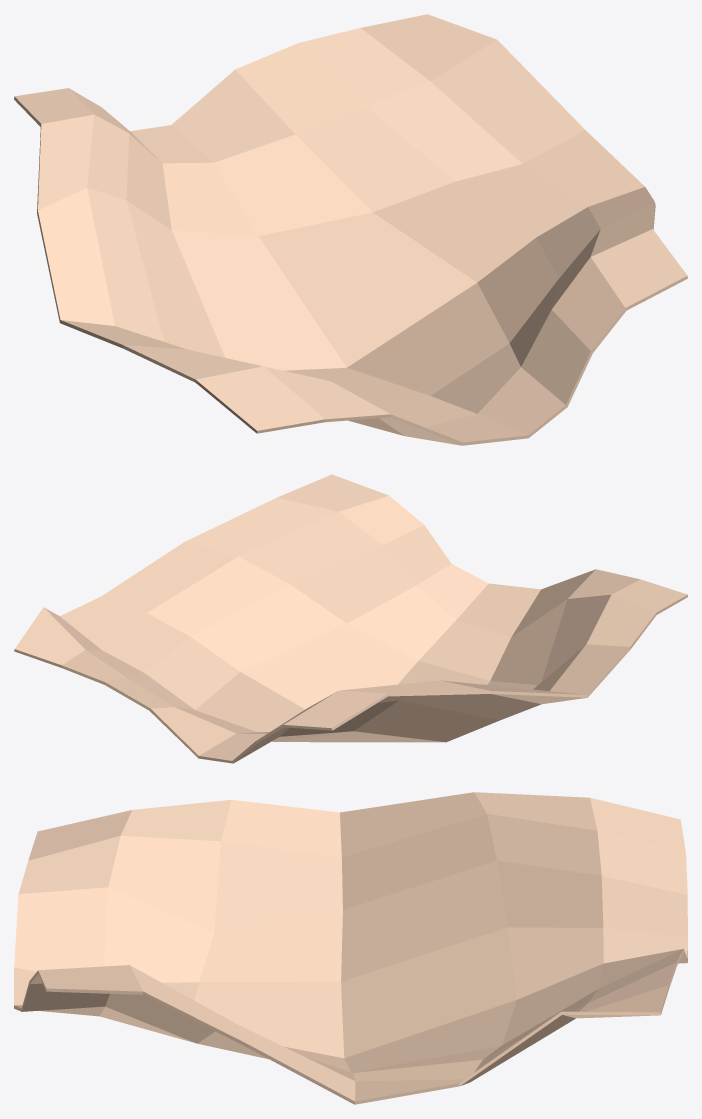
The model's file is papelaarugao.fbx.
The picture shows the model from 3 angles, top to bottom: view 1: azimuth 30°, elevation 25°; view 2: azimuth 150°, elevation 25°; view 3: azimuth 270°, elevation 25°; orthographic projection. The views are drawn at different scales.
Parts seen in each view (by area): view 1: Plane; view 2: Plane; view 3: Plane.
Part boxes in pixels (x1,y1,x2,y2): Plane: (14, 14, 687, 445); Plane: (14, 474, 687, 763); Plane: (14, 792, 687, 1104).
Size of the model in its own units: 178 by 55.35 by 185.
